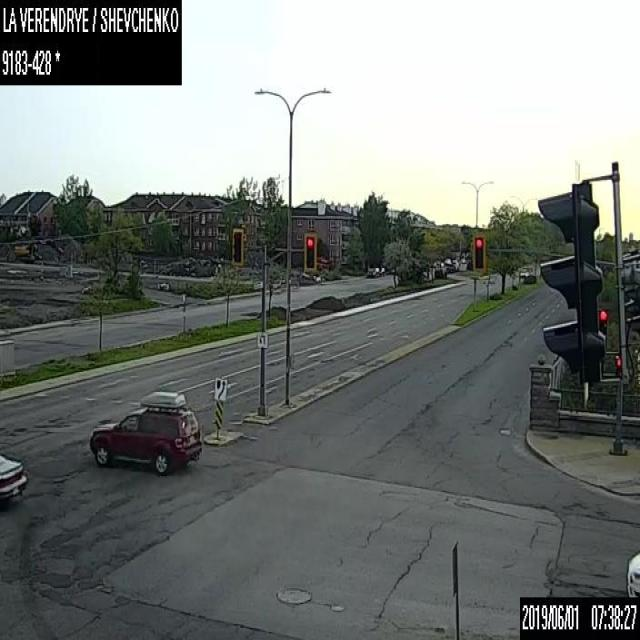vehicle: (89, 388, 201, 475), (0, 452, 28, 503), (623, 550, 639, 594), (519, 265, 532, 277), (366, 266, 378, 278), (378, 266, 385, 275)
